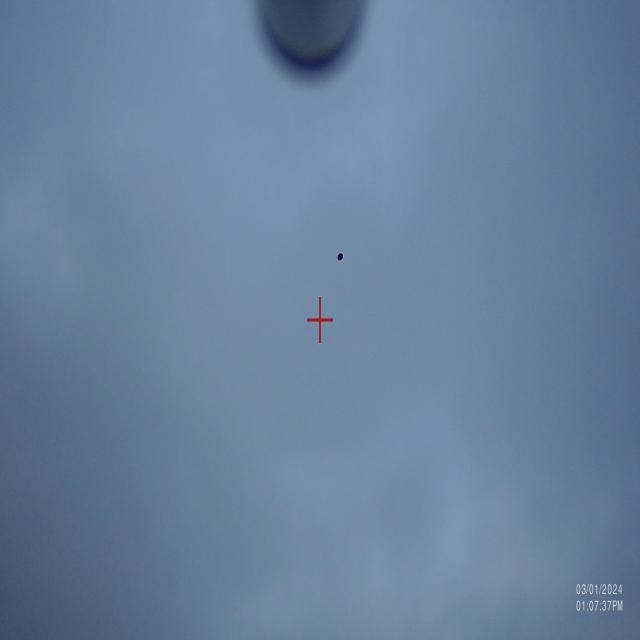entire: (334, 247, 344, 268)
